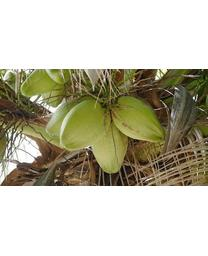coconut: (110, 94, 167, 146), (89, 110, 130, 172), (58, 100, 109, 147), (15, 66, 69, 103), (43, 101, 83, 139)
